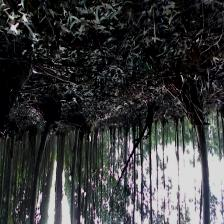trunk: (30, 124, 52, 221), (192, 114, 211, 222), (5, 130, 16, 220), (70, 128, 80, 220)
